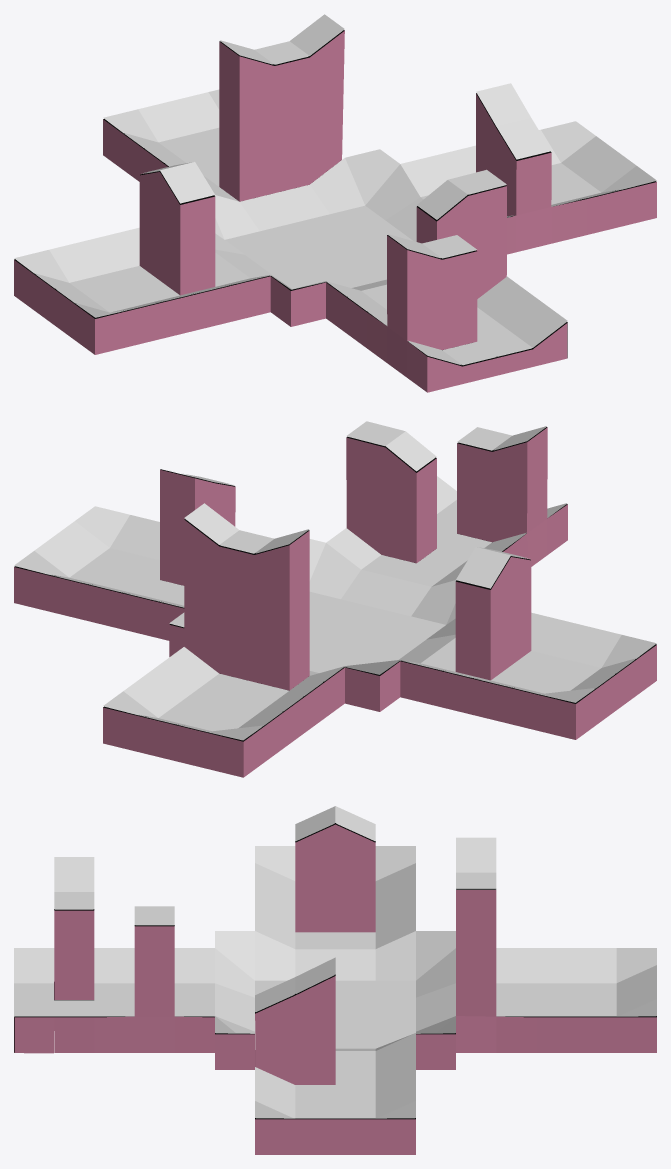
File: lvl2-Crossroads-v4.glb
The picture shows the model from 3 angles, top to bottom: view 1: azimuth 30°, elevation 25°; view 2: azimuth 150°, elevation 25°; view 3: azimuth 270°, elevation 25°; orthographic projection.
Parts seen in each view (by area): view 1: Terrain, Tile.112, Tile.063, Tile.056, Tile.080, Tile.079, Tile.051, Tile.054, Tile.075, Tile.086, Tile.076, Tile.059 (+40 smaller); view 2: Terrain, Tile.032, Tile.013, Tile.009, Tile.085, Tile.045, Tile.090, Tile.007, Tile.098, Tile.047, Tile.033, Tile.074 (+41 smaller); view 3: Terrain, Tile.052, Tile.011, Tile.006, Tile.069, Tile.003, Tile.066, Tile.072, Tile.087, Tile.005, Tile.083, Tile.008 (+63 smaller).
Boxes of the visible parts, x1,y1,x2,y2 form: Terrain: (14,30,656,392); Tile.112: (310,158,364,213); Tile.063: (345,149,399,205); Tile.056: (365,164,420,220); Tile.080: (476,83,530,126); Tile.079: (496,118,551,159); Tile.051: (49,241,103,282); Tile.054: (84,232,139,274); Tile.075: (138,101,193,142); Tile.086: (160,162,214,203); Tile.076: (173,92,219,133); Tile.059: (214,195,259,239); Terrain: (14,427,656,777); Tile.032: (309,543,360,598); Tile.013: (531,617,586,659); Tile.009: (567,626,621,667); Tile.085: (456,547,510,588); Tile.045: (110,515,159,556); Tile.090: (411,580,456,624); Tile.007: (376,578,430,616); Tile.098: (341,569,395,607); Tile.047: (75,506,129,547); Tile.033: (326,528,380,569); Tile.074: (123,676,178,717); Terrain: (14,823,656,1154); Tile.052: (375,931,415,980); Tile.011: (255,931,295,980); Tile.006: (94,948,134,983); Tile.069: (536,948,576,983); Tile.003: (174,948,214,983); Tile.066: (496,948,536,983); Tile.072: (576,948,616,983); Tile.087: (456,837,496,872); Tile.005: (14,948,54,983); Tile.083: (54,857,94,891); Tile.008: (215,931,254,980).
Size of the model in its own units: 16 by 4.52 by 16.
